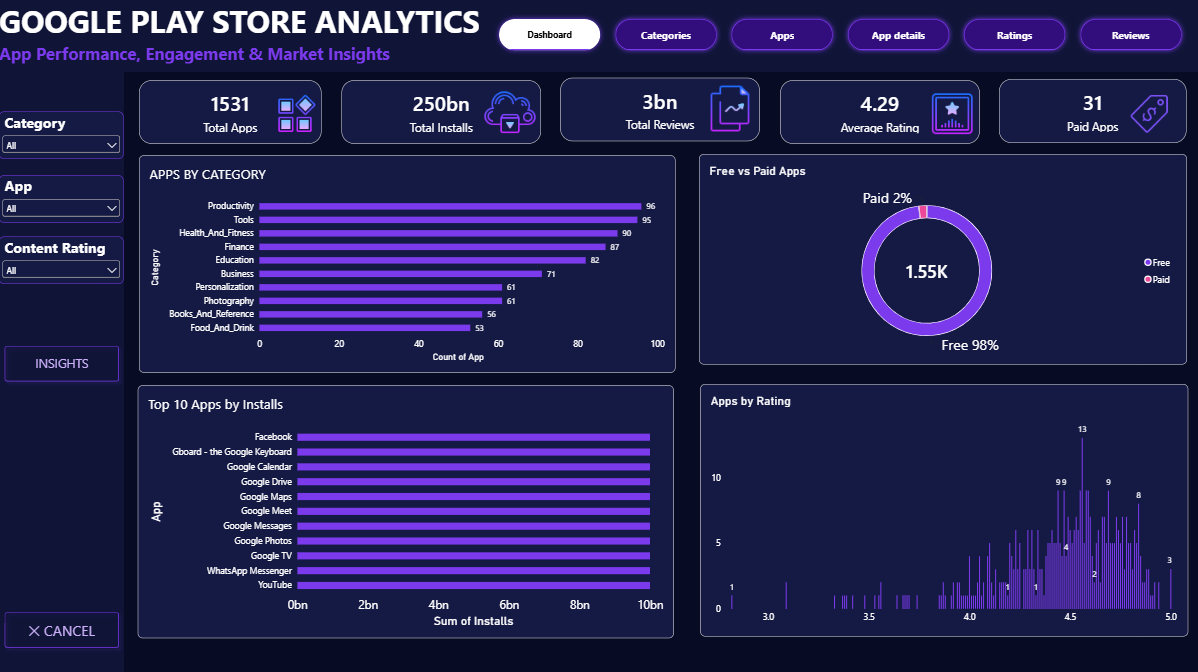

The dashboard page shown, as its layout file describes it:
{"tool":"powerbi","page":{"name":"Dashboard","canvas":[1920,1080],"ordinal":0},"visuals":[{"type":"card","title":"Total Apps","fields":{"Values":["google_play_analysis google_play_apps.Total Apps"]},"box":[224.2,129.1,292.2,101.9],"z":0},{"type":"shape","box":[0,115,200,965],"z":1000},{"type":"textbox","title":"GOOGLE PLAY STORE ANALYTICS","box":[0,0,1920,116.9],"z":2000},{"type":"card","fields":{"Values":["google_play_analysis google_play_apps.Total Installs"]},"box":[547.8,129.1,319.3,101.9],"z":3000},{"type":"card","fields":{"Values":["google_play_analysis google_play_apps.Total Reviews"]},"box":[898.5,125.7,319.3,101.9],"z":4000},{"type":"card","fields":{"Values":["google_play_analysis google_play_apps.Average Rating"]},"box":[1249.3,129.1,319.3,101.9],"z":5000},{"type":"card","fields":{"Values":["google_play_analysis google_play_apps.Paid Apps"]},"box":[1600,128.3,300,102.2],"z":6000},{"type":"clusteredBarChart","title":"APPS BY CATEGORY","fields":{"Category":["google_play_analysis google_play_apps.Category"],"Y":["CountNonNull(google_play_analysis google_play_apps.App)"]},"box":[223.4,249.4,858.4,348.1],"z":7000},{"type":"donutChart","title":"Free vs Paid Apps","fields":{"Category":["google_play_analysis google_play_apps.Type"],"Y":["CountNonNull(google_play_analysis google_play_apps.App)"]},"box":[1120.7,248.8,780.4,337],"z":8000},{"type":"columnChart","title":"Apps by Rating","fields":{"Category":["google_play_analysis google_play_apps.Rating"],"Y":["CountNonNull(google_play_analysis google_play_apps.App)"]},"box":[1122,616.5,780.4,404.3],"z":9000},{"type":"slicer","fields":{"Values":["google_play_analysis google_play_apps.Category"]},"box":[0,179.2,199.1,76],"z":10000},{"type":"slicer","fields":{"Values":["google_play_analysis google_play_apps.Content Rating"]},"box":[0,380,199.1,76],"z":11000},{"type":"slicer","fields":{"Values":["google_play_analysis google_play_apps.App"]},"box":[0,282.3,199.1,76],"z":12000},{"type":"pageNavigator","box":[792.6,23.5,1109.3,67],"z":13000},{"type":"clusteredBarChart","title":"Top 10 Apps by Installs","fields":{"Category":["google_play_analysis google_play_apps.App"],"Y":["Sum(google_play_analysis google_play_apps.Installs)"]},"box":[222.2,617.8,857.8,404.4],"z":14000},{"type":"image","box":[432.5,145,85,77.5],"z":15000},{"type":"image","box":[765,140,102.5,82.5],"z":16000},{"type":"image","box":[1122.5,130,95,90],"z":17000},{"type":"image","box":[1480,140,90,87.5],"z":18000},{"type":"image","box":[1807.5,145,65,75],"z":19000},{"type":"actionButton","title":"INSIGHTS","box":[0,545.1,201,74.9],"z":21000},{"type":"actionButton","title":"INSIGHTS","box":[0,973,201,74.9],"z":22000}]}

Visuals, with their boxes in screenshot pixels (x1, y1, x2, y2), scaled from the page's 1920x1080 canvas onto the 1198x672 screenshot:
"Total Apps" card: bbox=[140, 80, 322, 144]
shape: bbox=[0, 72, 125, 671]
"GOOGLE PLAY STORE ANALYTICS" textbox: bbox=[0, 0, 1197, 73]
card - google_play_analysis google_play_apps.Total Installs: bbox=[342, 80, 541, 144]
card - google_play_analysis google_play_apps.Total Reviews: bbox=[561, 78, 760, 142]
card - google_play_analysis google_play_apps.Average Rating: bbox=[780, 80, 979, 144]
card - google_play_analysis google_play_apps.Paid Apps: bbox=[998, 80, 1186, 143]
"APPS BY CATEGORY" clusteredBarChart: bbox=[139, 155, 675, 372]
"Free vs Paid Apps" donutChart: bbox=[699, 155, 1186, 364]
"Apps by Rating" columnChart: bbox=[700, 384, 1187, 635]
slicer - google_play_analysis google_play_apps.Category: bbox=[0, 112, 124, 159]
slicer - google_play_analysis google_play_apps.Content Rating: bbox=[0, 236, 124, 284]
slicer - google_play_analysis google_play_apps.App: bbox=[0, 176, 124, 223]
pageNavigator: bbox=[495, 15, 1187, 56]
"Top 10 Apps by Installs" clusteredBarChart: bbox=[139, 384, 674, 636]
image: bbox=[270, 90, 323, 138]
image: bbox=[477, 87, 541, 138]
image: bbox=[700, 81, 760, 137]
image: bbox=[923, 87, 980, 142]
image: bbox=[1128, 90, 1168, 137]
"INSIGHTS" actionButton: bbox=[0, 339, 125, 386]
"INSIGHTS" actionButton: bbox=[0, 605, 125, 652]
